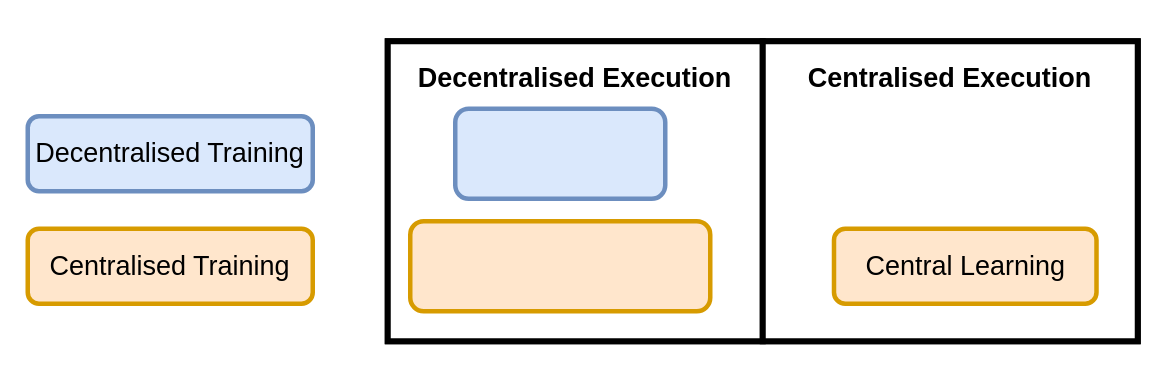
Some shapes in this 1167 by 369 pixel diagram are drawn without their labels. The shapes that lost their labels are listed below. From the top down, each one's box as (x1, y1, x2, y2) in pixels, then its label:
(452, 106, 667, 200): Independent Learning
(407, 218, 712, 313): Centralised Training Decentralised Execution
